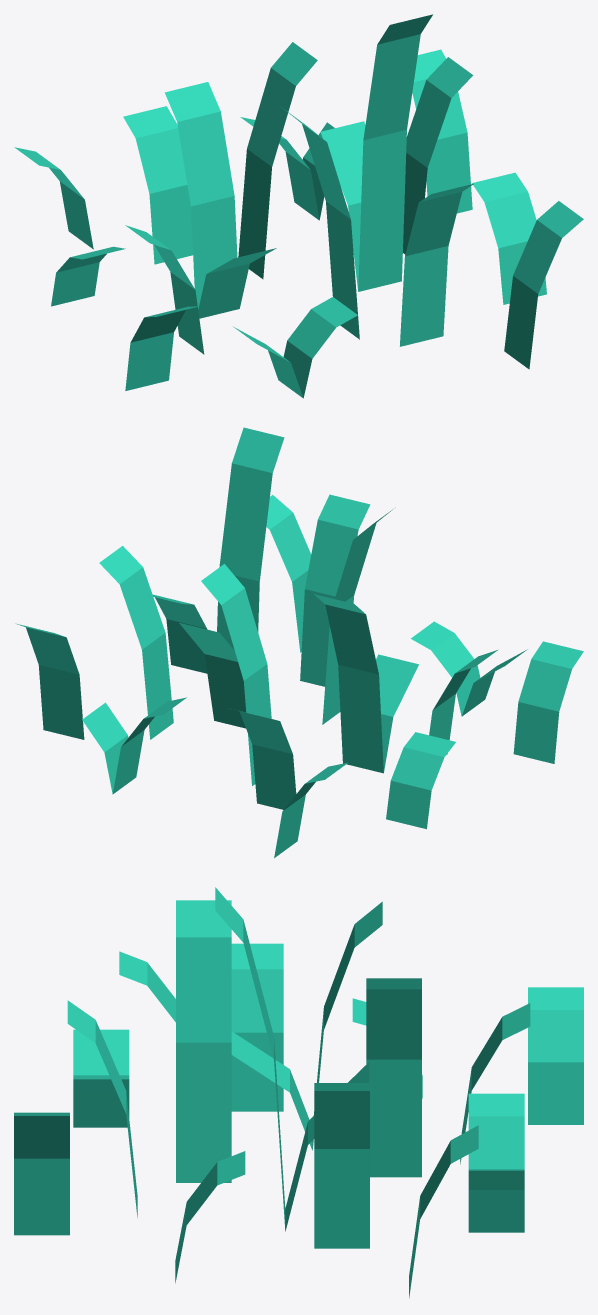
File: grass_large.dae
3 renders of one model, top to bottom at view 1: azimuth 30°, elevation 25°; view 2: azimuth 150°, elevation 25°; view 3: azimuth 270°, elevation 25°, orthographic. The views are drawn at different scales.
Parts seen in each view (by area): view 1: grass_large; view 2: grass_large; view 3: grass_large.
Boxes of the visible parts, x1,y1,x2,y2 form: grass_large: (14, 14, 583, 398); grass_large: (15, 427, 583, 858); grass_large: (14, 887, 583, 1298).
Bounding box in the file's own units: 0.409 × 0.254 × 0.4079.
